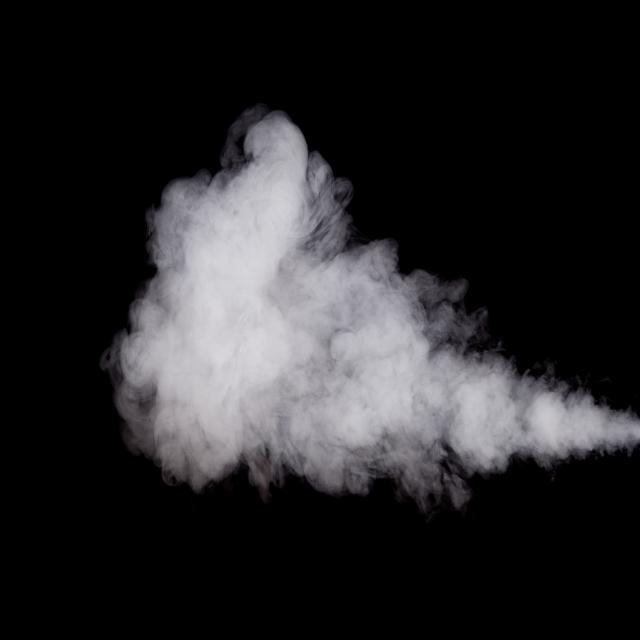Smoke: (99, 100, 640, 523)
